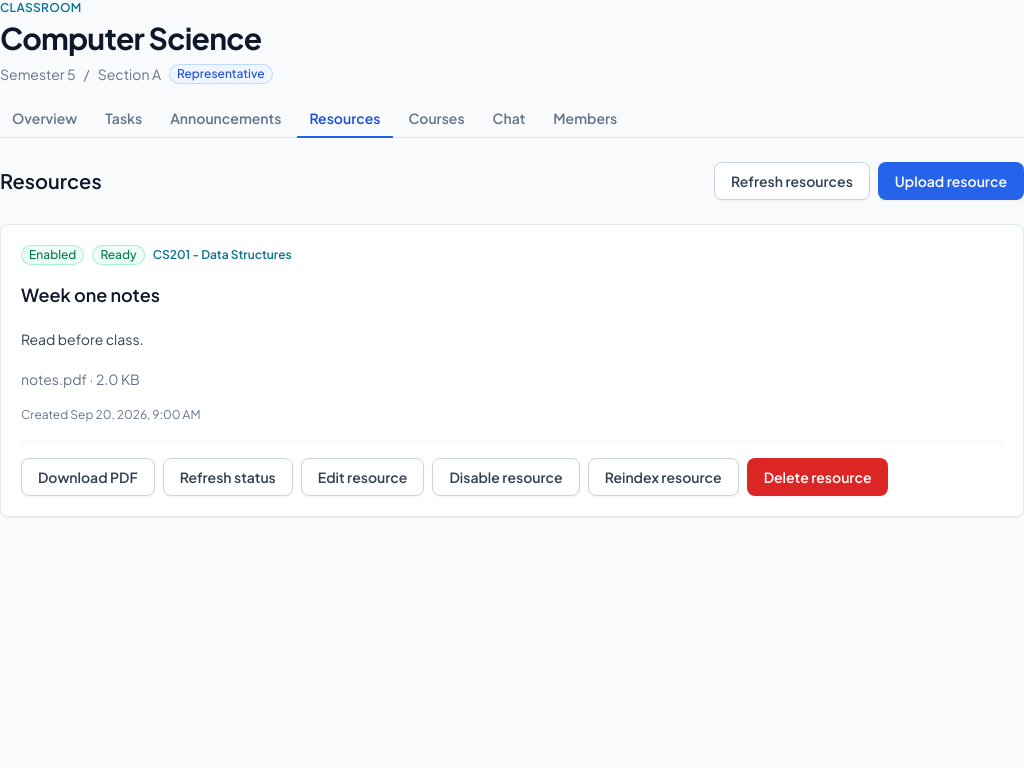
Test case: class resources › keeps a resource until deletion succeeds and preserves the confirmation after errors
This screenshot has width=1024, height=768.
Click the button "Delete resource" at (818, 477), box top-left (747, 458), bottom-right (888, 496)
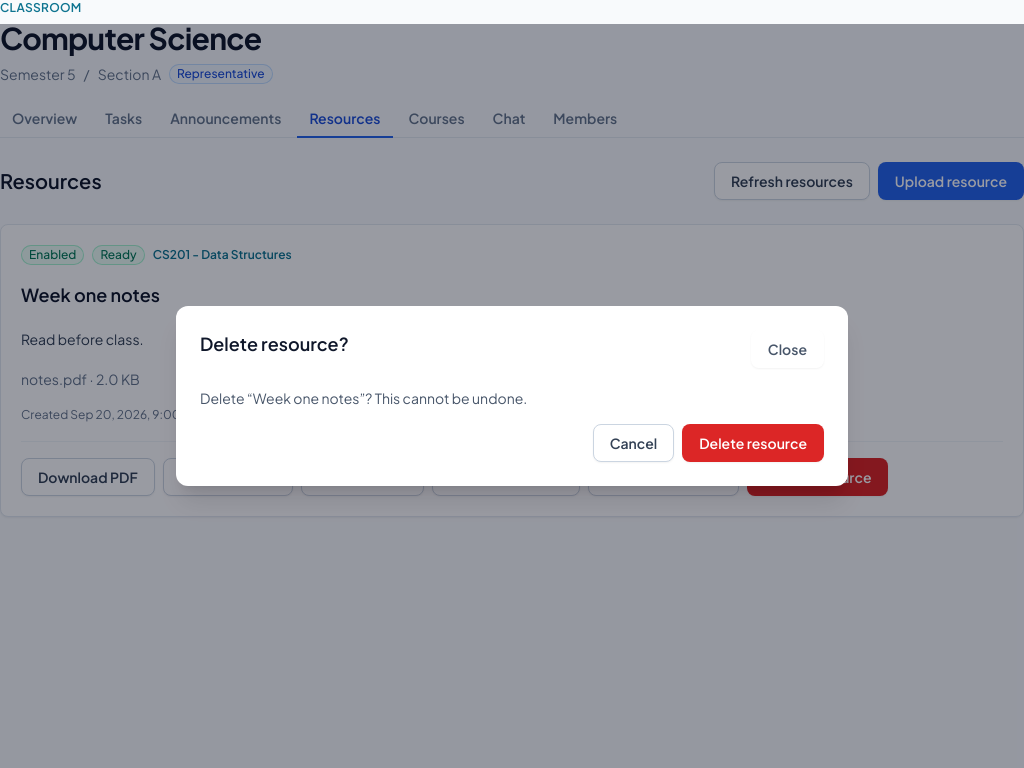
Click the button "Delete resource" at (753, 443), box top-left (682, 424), bottom-right (824, 462)
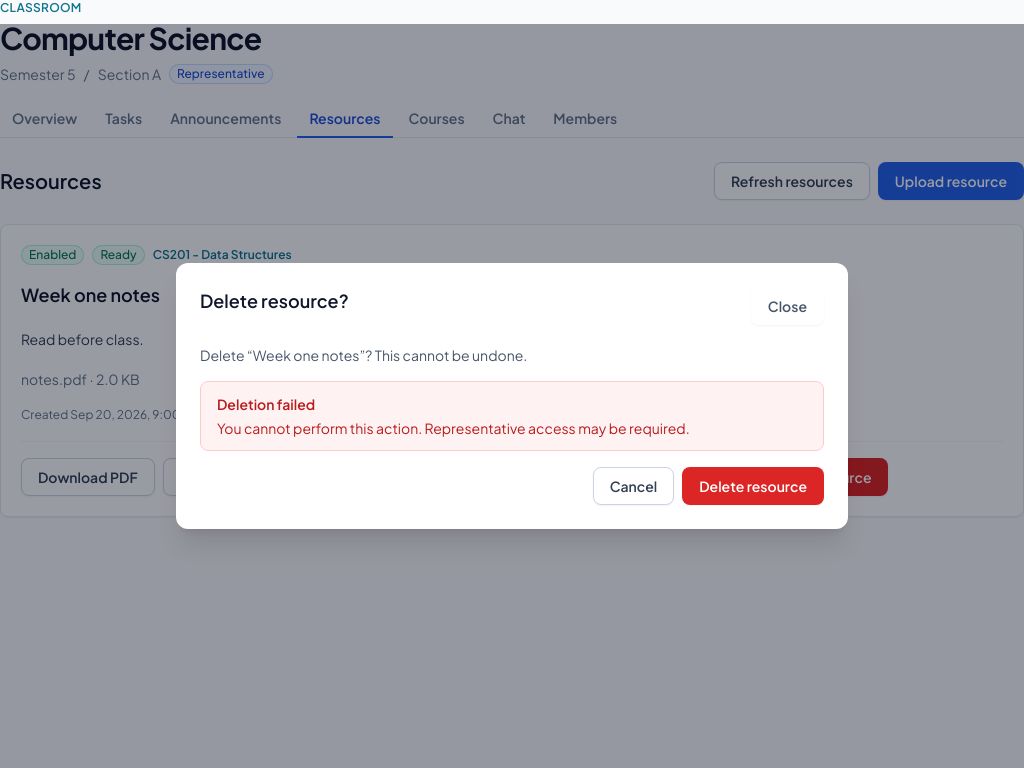
Expected: the element that starts with "Enabled" is shown, top-left (0, 224), bottom-right (1023, 517)
Result: the message shows "You cannot perform this action" at top-left (217, 419), bottom-right (690, 437)
Click the button "Delete resource" at (753, 486), box top-left (682, 467), bottom-right (824, 505)
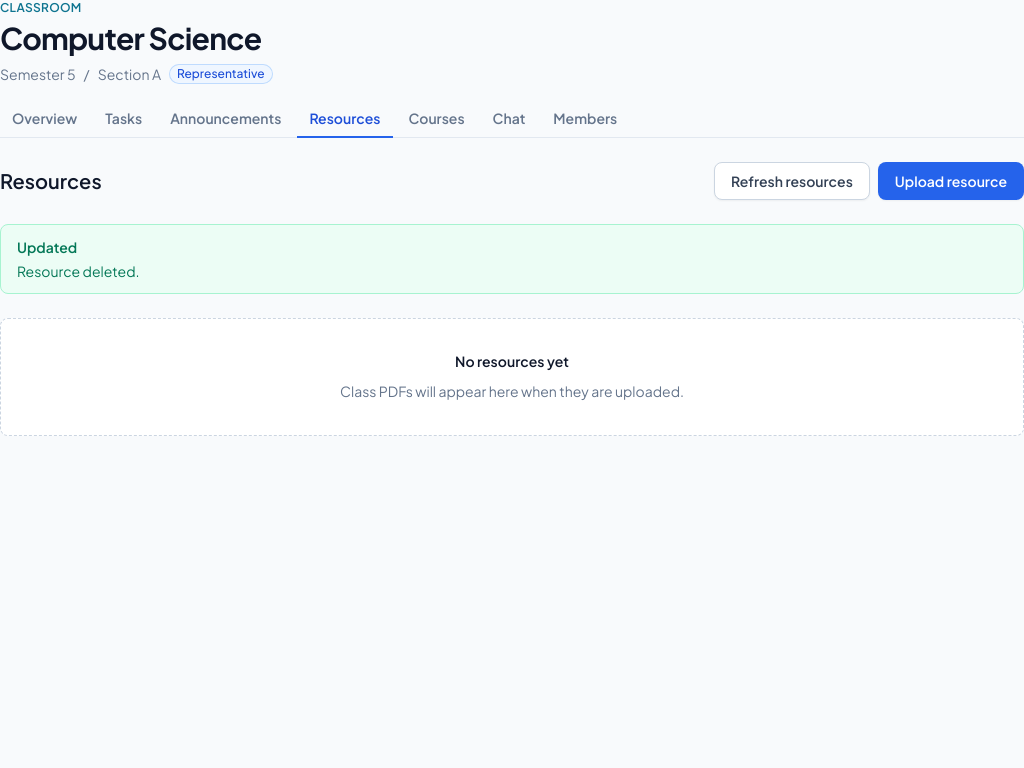
Result: the heading "No resources yet" is shown at top-left (455, 352), bottom-right (569, 370)
